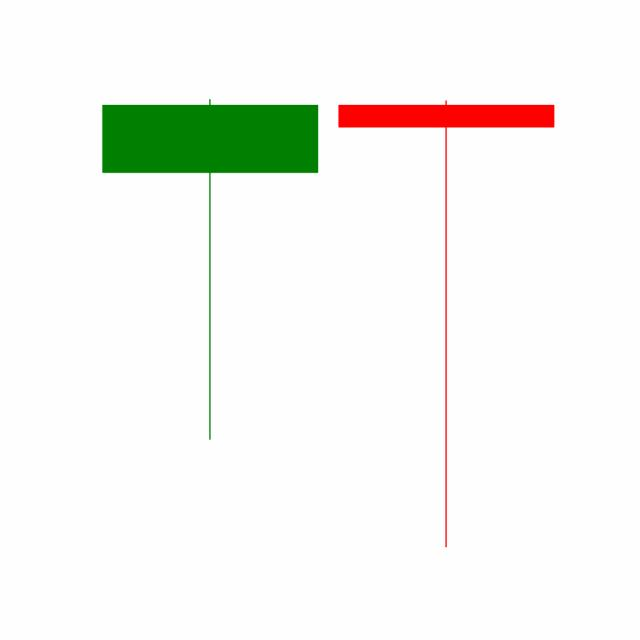Dragonfly Doji: (327, 95, 565, 552)
